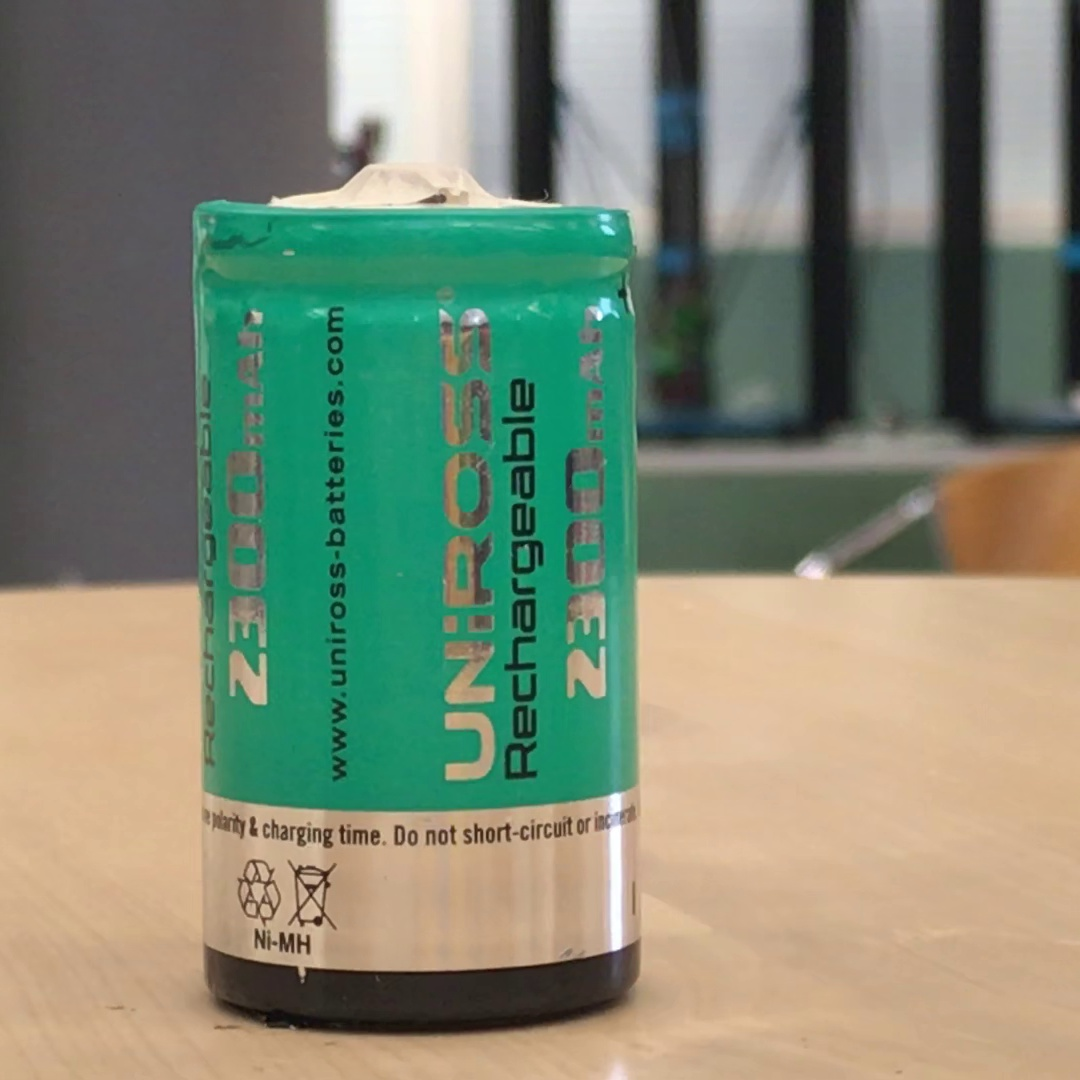keyword: (245, 924, 320, 959)
